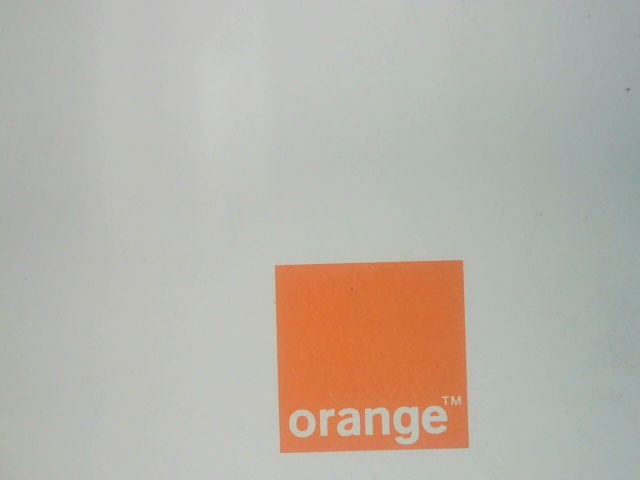AR_Orange: (257, 250, 481, 462)
